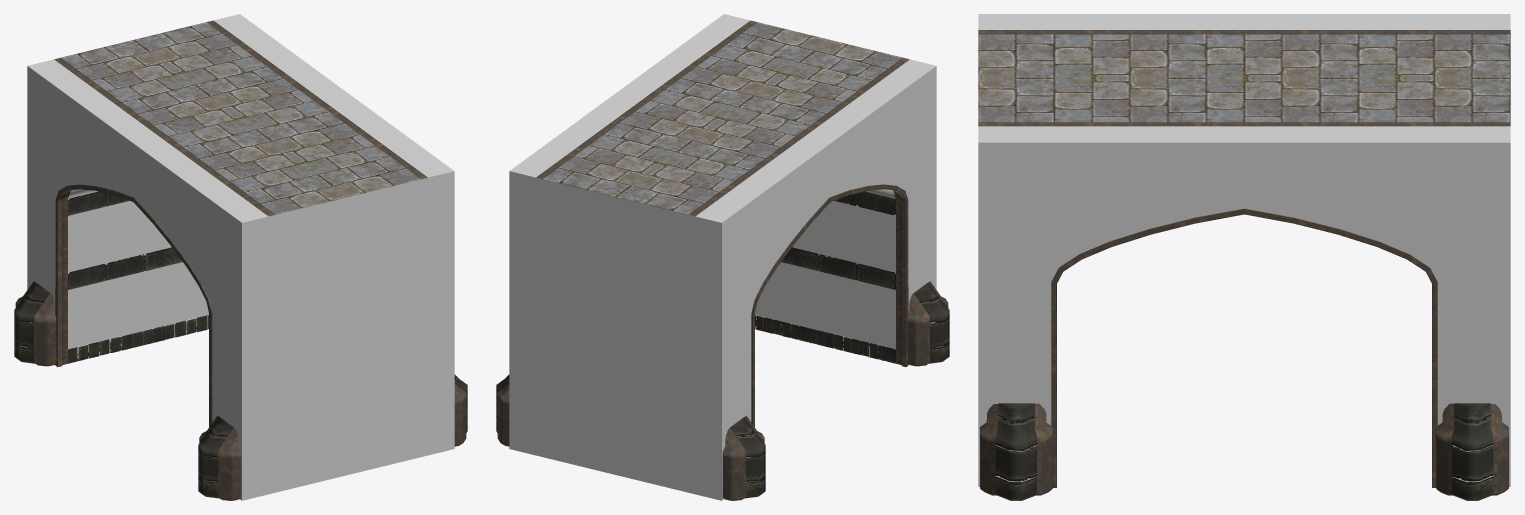
3 views of the same model, side by side, from view 1: azimuth 30°, elevation 25°; view 2: azimuth 150°, elevation 25°; view 3: azimuth 270°, elevation 25° (orthographic). The views are drawn at different scales.
Parts seen in each view (by area): view 1: SM_Dowdun_Walkway_Arch_14x8_01_LOD0; view 2: SM_Dowdun_Walkway_Arch_14x8_01_LOD0; view 3: SM_Dowdun_Walkway_Arch_14x8_01_LOD0.
Part boxes in pixels (box(x1,y1,x2,y2)): SM_Dowdun_Walkway_Arch_14x8_01_LOD0: box(14, 14, 467, 500); SM_Dowdun_Walkway_Arch_14x8_01_LOD0: box(496, 14, 949, 500); SM_Dowdun_Walkway_Arch_14x8_01_LOD0: box(978, 14, 1510, 500).
Size of the model in its own units: 9.95 by 10 by 14.
4 materials, 3 textured.
